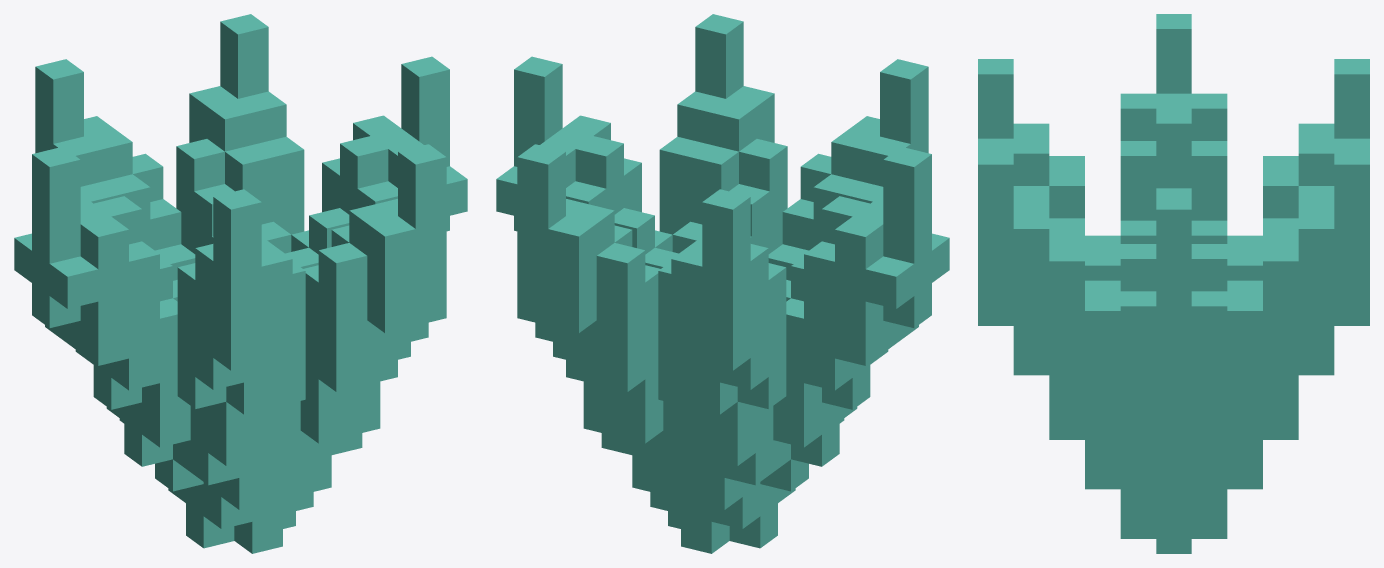
The model's file is spear-1.glb.
3 views of the same model, side by side, from view 1: azimuth 30°, elevation 25°; view 2: azimuth 150°, elevation 25°; view 3: azimuth 270°, elevation 25° (orthographic).
Parts seen in each view (by area): view 1: spear-rosette; view 2: spear-rosette; view 3: spear-rosette.
Boxes of the visible parts, box(x1,y1,x2,y2) form: spear-rosette: box(14, 14, 467, 553); spear-rosette: box(496, 14, 949, 553); spear-rosette: box(978, 14, 1369, 553).
Bounding box in the file's own units: 1.56 × 1.56 × 1.32.
